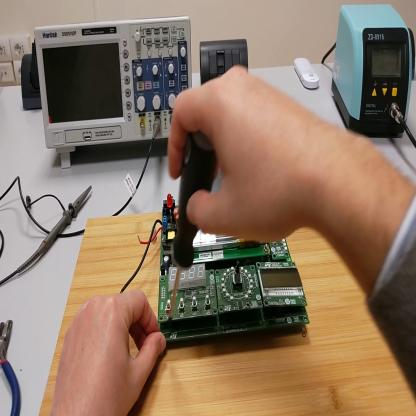hand: (168, 66, 316, 244), (54, 288, 166, 415)
low voltage board: (120, 192, 315, 345)
oscilloscope: (36, 19, 194, 167)
oscilloscope probe tip: (19, 186, 93, 276)
pliers: (1, 320, 22, 416)
screwdriver-: (163, 134, 213, 331)
socket: (22, 51, 44, 110)
welder station: (331, 6, 412, 137)
working area: (41, 216, 416, 415)
